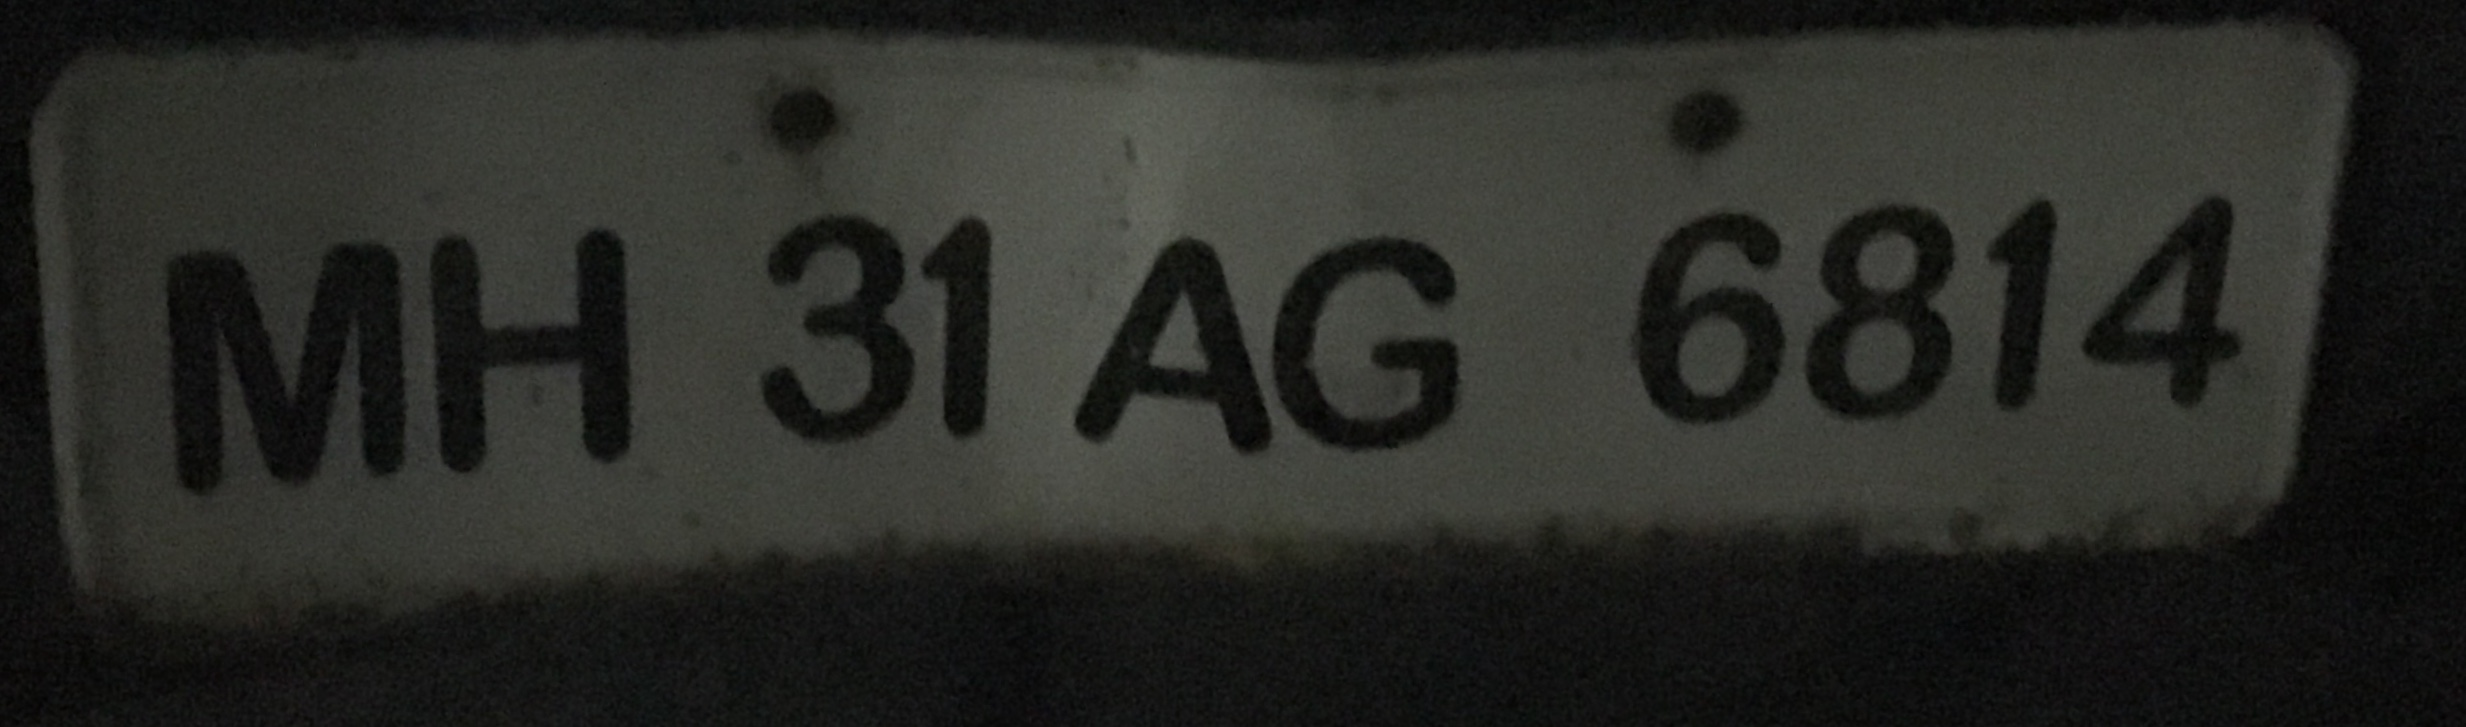numberplate: (32, 29, 2367, 629)
